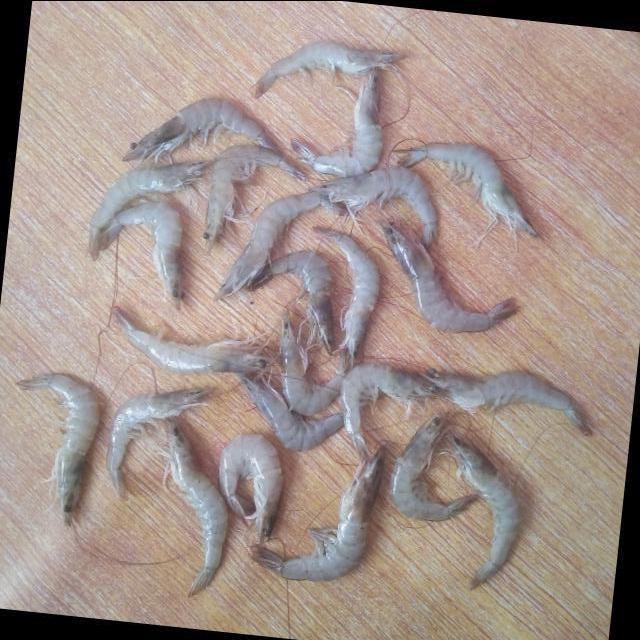shrimp: (251, 447, 384, 582), (381, 221, 519, 333), (214, 190, 349, 300), (399, 142, 538, 236), (16, 374, 98, 526), (88, 160, 212, 259), (446, 434, 522, 590), (106, 388, 211, 498), (110, 306, 272, 375), (203, 144, 306, 250), (428, 369, 591, 435), (168, 424, 227, 596), (122, 97, 278, 161), (313, 166, 437, 246), (313, 227, 380, 375), (340, 363, 446, 456), (291, 69, 382, 176), (390, 414, 477, 521), (248, 250, 334, 354), (100, 201, 182, 308), (235, 372, 343, 452), (255, 40, 404, 97), (280, 314, 354, 416), (218, 434, 282, 544)
